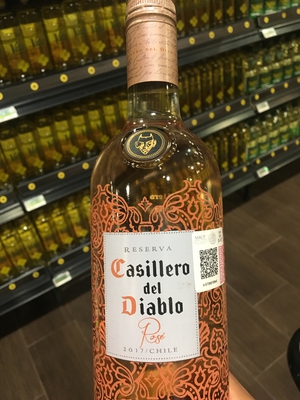casillero del diablo rose: (81, 2, 250, 400)
